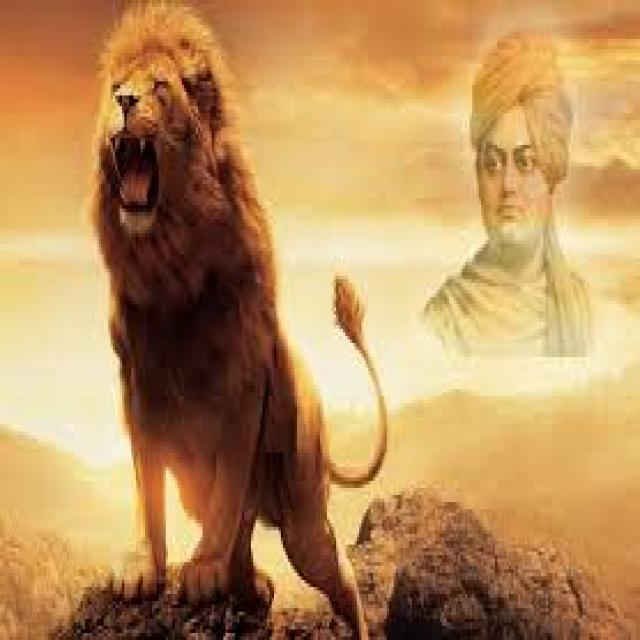Lion: (88, 5, 370, 636)
